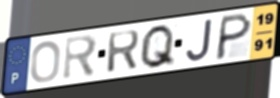J: (184, 18, 214, 63)
O: (29, 40, 63, 85)
P: (213, 11, 254, 62)
Q: (138, 23, 177, 71)
R: (61, 33, 100, 83), (105, 28, 142, 75)
